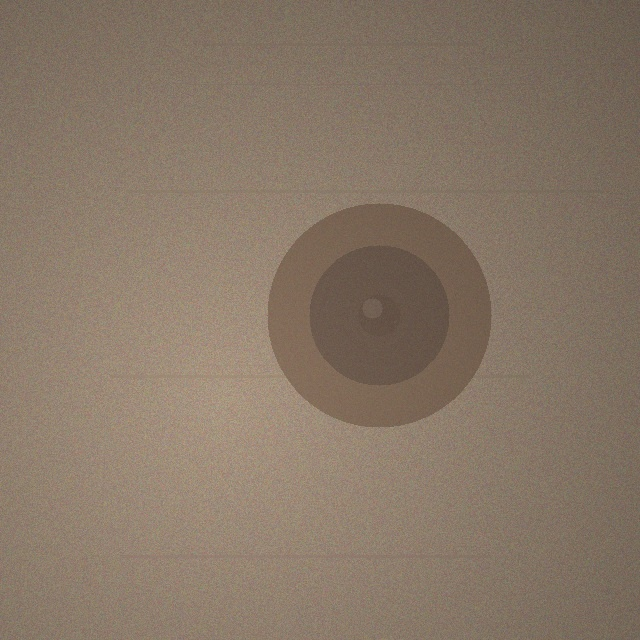good: (267, 203, 491, 427)
